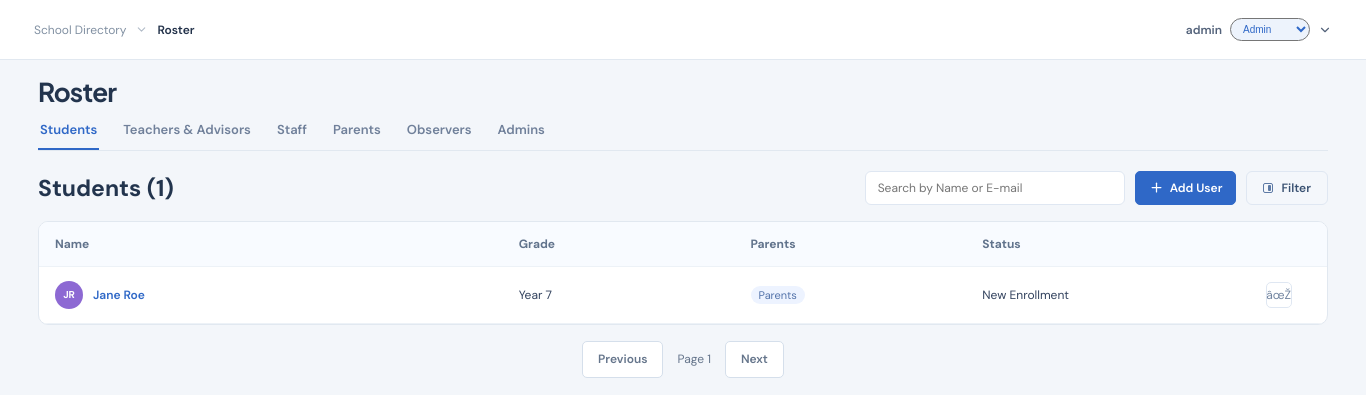
Test case: RosterPage › lists users by role on the other tabs
This screenshot has width=1366, height=395.
Click the button "Teachers & Advisors" at (187, 135), box [121,121,253,150]
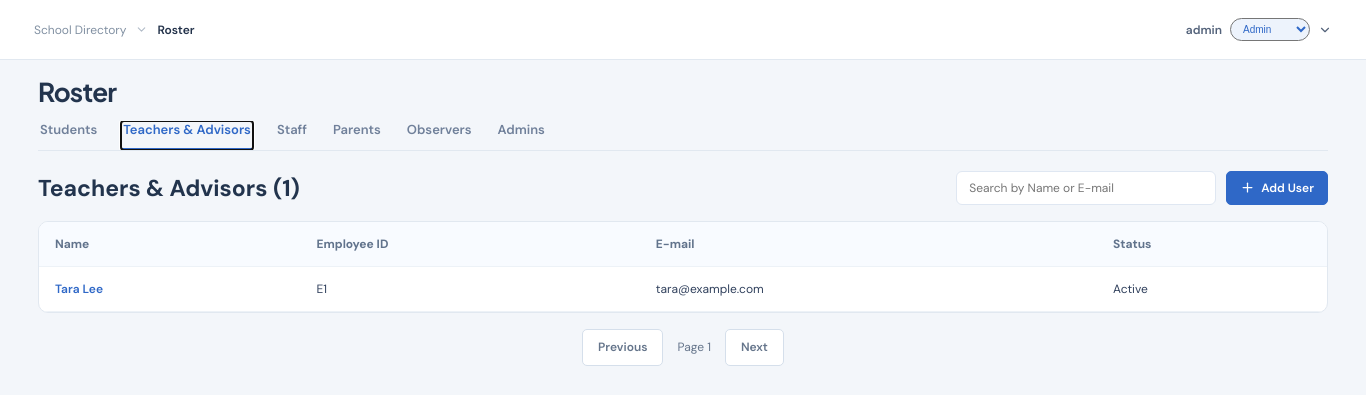
Check: the button "Tara Lee" is shown, box [55,281,103,297]
Check: the text "Teachers & Advisors (1)" is shown, box [38,173,300,203]
Click the button "Parents" at (357, 135), box [331,121,383,150]
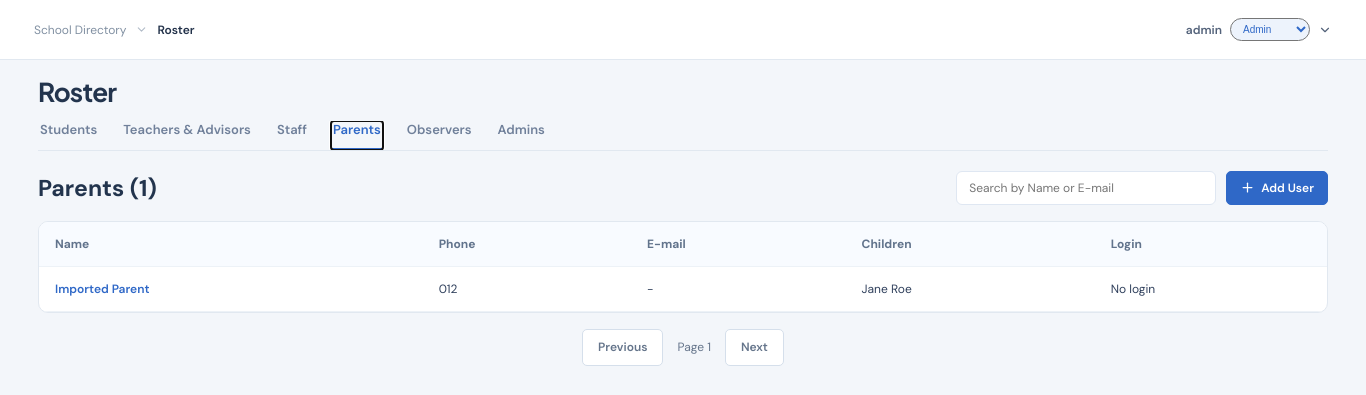
Check: the button "Imported Parent" is shown, box [55,281,150,297]
Check: the text "No login" is shown, box [1095,266,1327,311]
Click the button "Admins" at (521, 135), box [496,121,547,150]
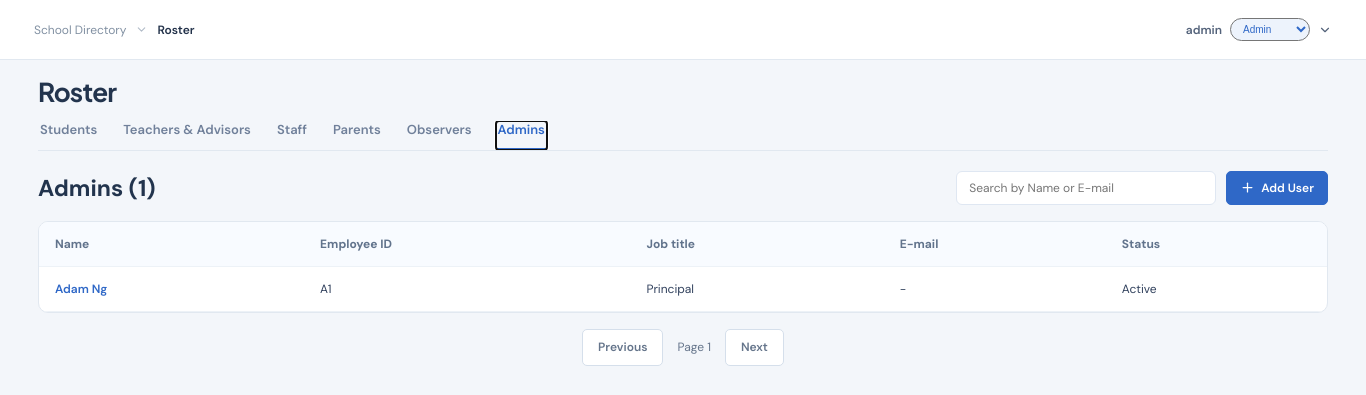
Check: the button "Adam Ng" is shown, box [55,281,107,297]
